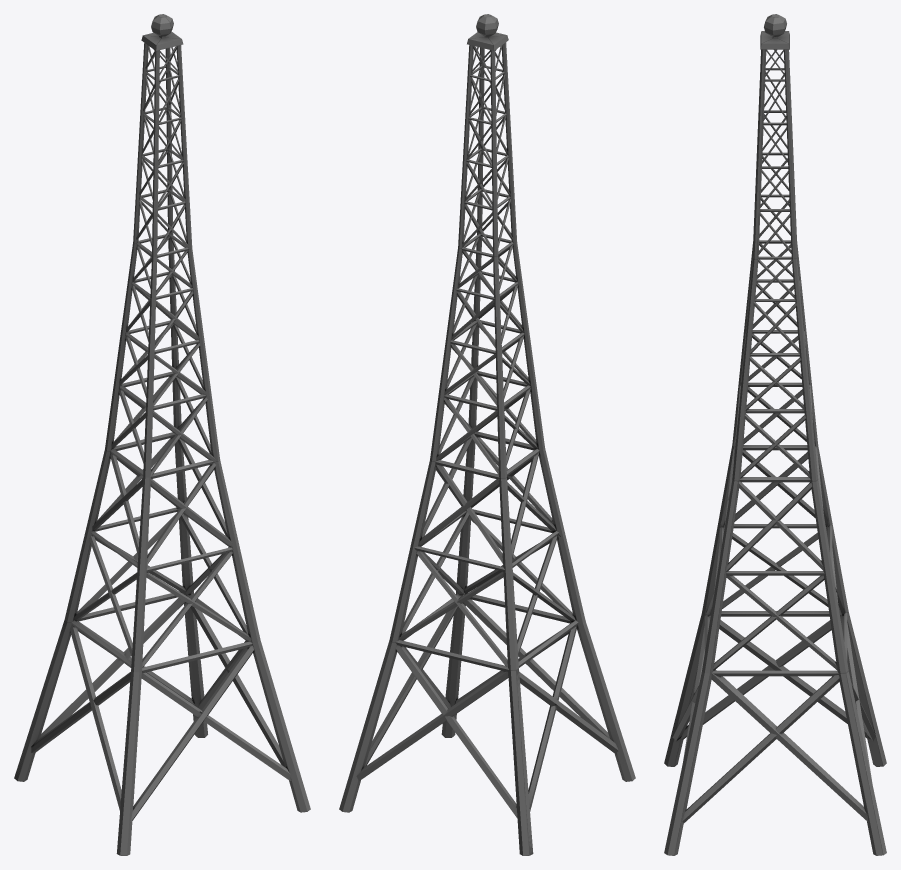
3 renders of one model, left to right at view 1: azimuth 30°, elevation 25°; view 2: azimuth 150°, elevation 25°; view 3: azimuth 270°, elevation 25°, orthographic.
Visible parts, largest first — view 1: RadioTower_mesh; view 2: RadioTower_mesh; view 3: RadioTower_mesh.
Part boxes in pixels (<box>): RadioTower_mesh: <box>14,14,310,855</box>; RadioTower_mesh: <box>339,14,635,855</box>; RadioTower_mesh: <box>664,14,886,855</box>.
Size of the model in its own units: 9.43 by 36.78 by 9.36.
1 material, 1 textured.
